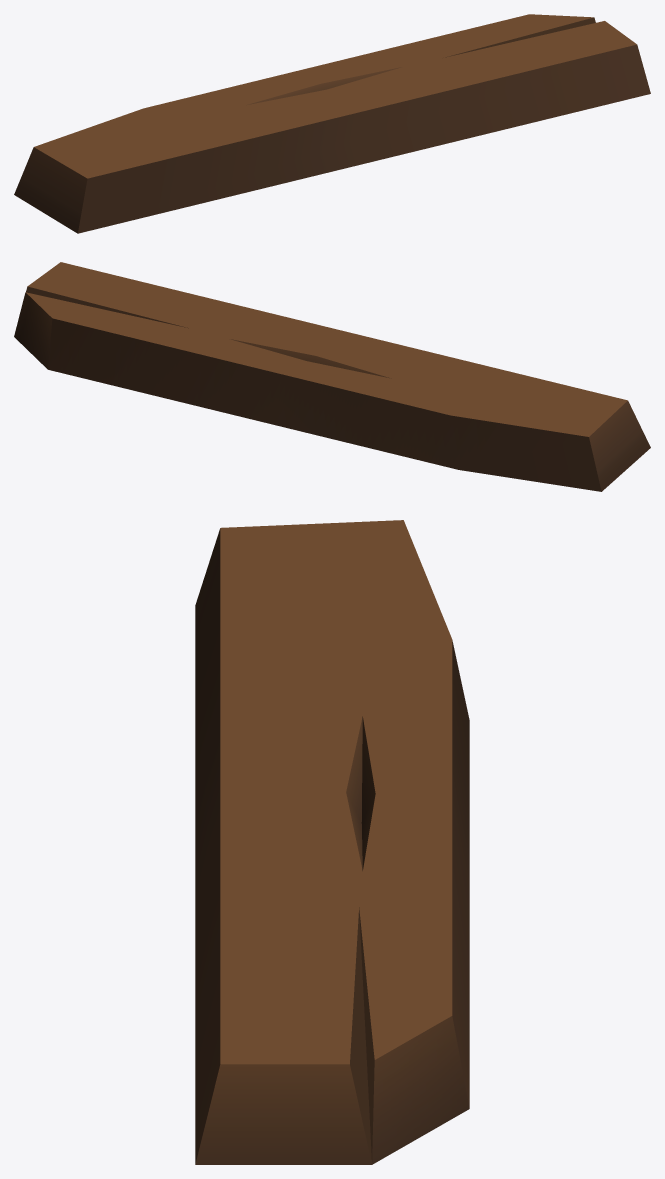
Rendered from Wooden_Plank_1B.fbx.
3 views of the same model, one above another, from view 1: azimuth 30°, elevation 25°; view 2: azimuth 150°, elevation 25°; view 3: azimuth 270°, elevation 25° (orthographic). The views are drawn at different scales.
Parts seen in each view (by area): view 1: Wooden_Plank_1B; view 2: Wooden_Plank_1B; view 3: Wooden_Plank_1B.
Part boxes in pixels (left/top/right/bottom): Wooden_Plank_1B: left=14, top=14, right=650, bottom=233; Wooden_Plank_1B: left=14, top=262, right=650, bottom=491; Wooden_Plank_1B: left=195, top=520, right=469, bottom=1164.
Size of the model in its own units: 196 by 15 by 40.
